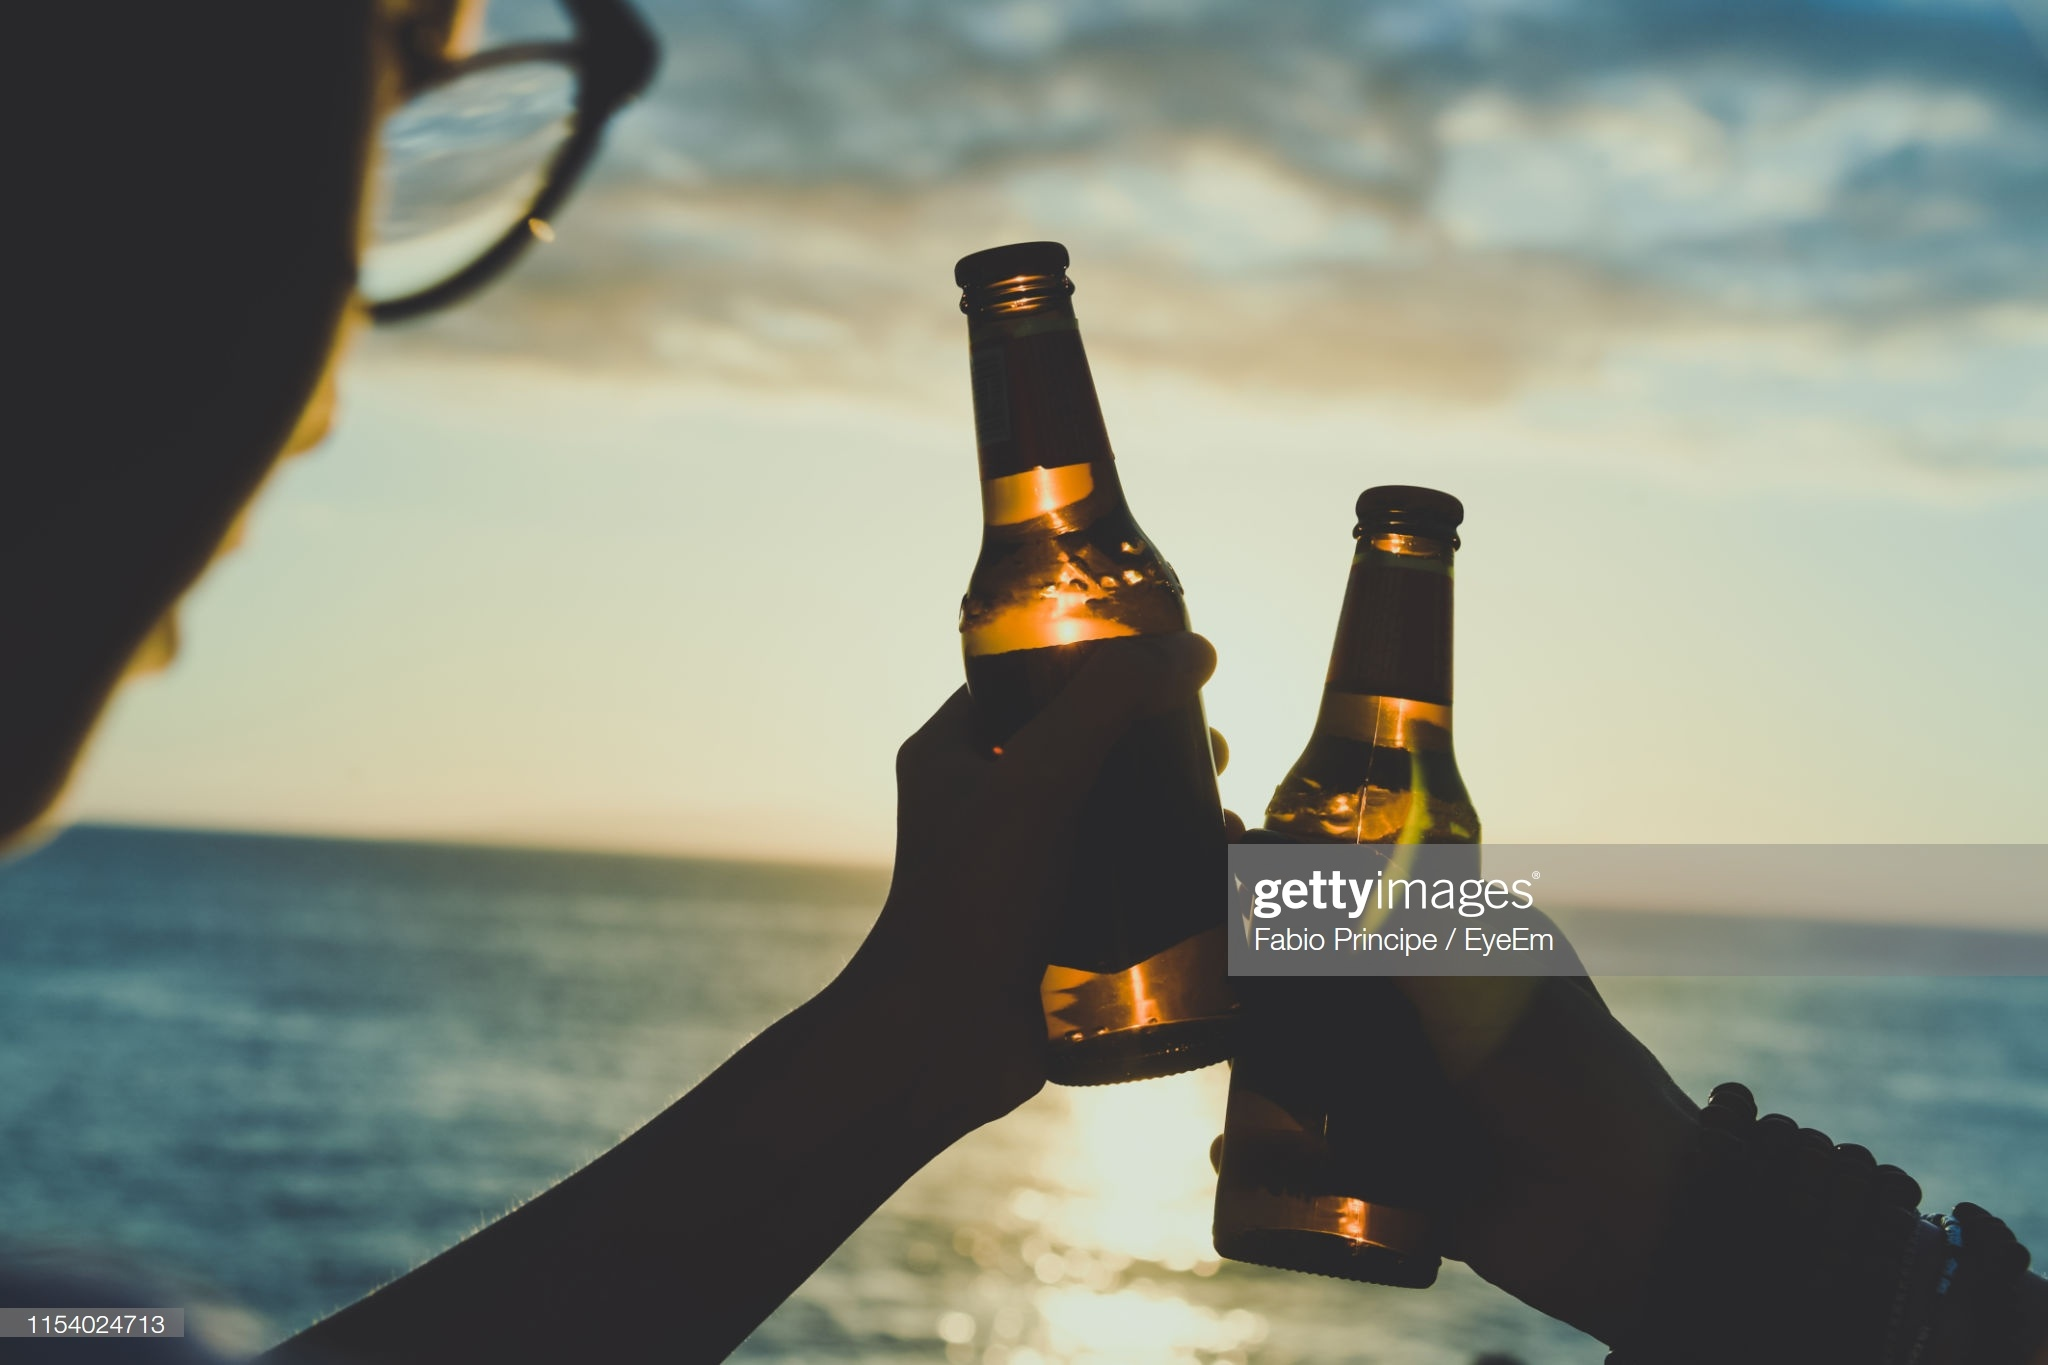beerBottle: (949, 248, 1211, 1091), (1223, 481, 1501, 1261)
